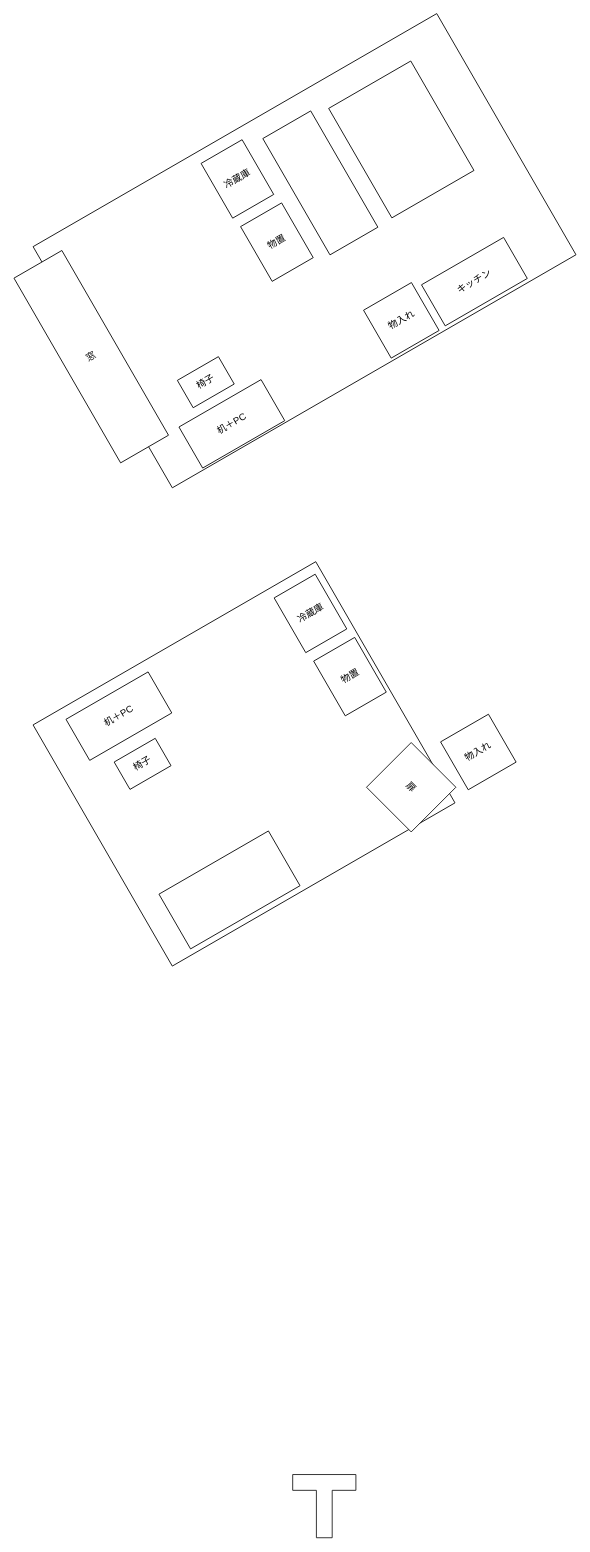
Some shapes in this 590 by 1552 pixel diagram are drawn without their labels. The centre of each missing label's shape, as x and y in pixels:
お風呂: the point at 401,139
トイレ: the point at 320,182
ベッド: the point at 229,889
